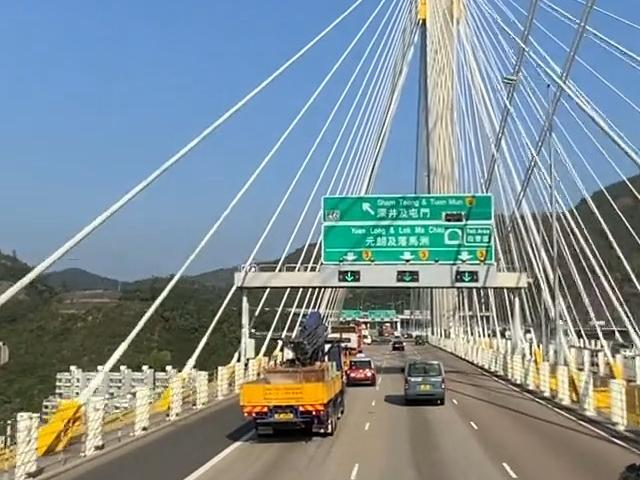car: (407, 357, 452, 408), (344, 354, 380, 388)
truck: (248, 310, 355, 440)
